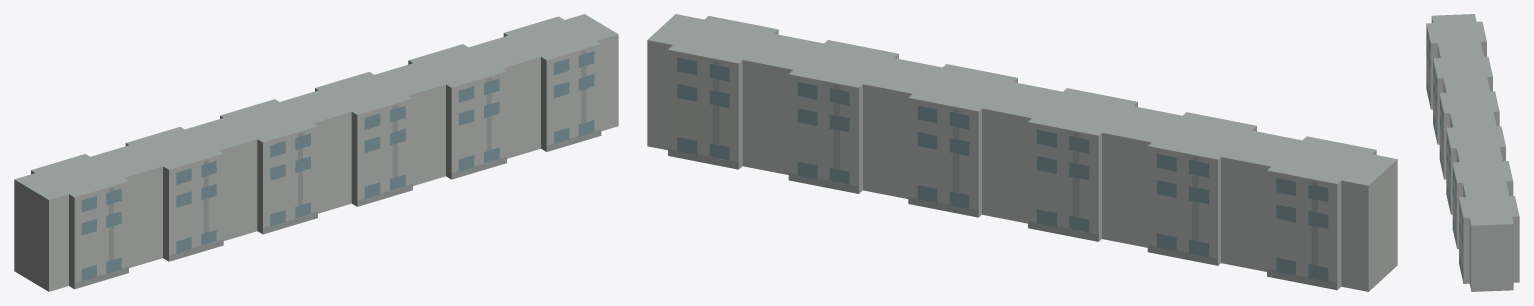
File: survey-upis-32742536.glb
The picture shows the model from 3 angles, left to right: view 1: azimuth 30°, elevation 25°; view 2: azimuth 150°, elevation 25°; view 3: azimuth 270°, elevation 25°; orthographic projection. The views are drawn at different scales.
Visible parts, largest first — view 1: survey-upis-32742536.tmp; view 2: survey-upis-32742536.tmp; view 3: survey-upis-32742536.tmp.
Boxes of the visible parts, x1,y1,x2,y2 form: survey-upis-32742536.tmp: (14,14,618,291); survey-upis-32742536.tmp: (647,14,1397,291); survey-upis-32742536.tmp: (1426,14,1519,291).
Size of the model in its own units: 83.65 by 12.2 by 15.54.
